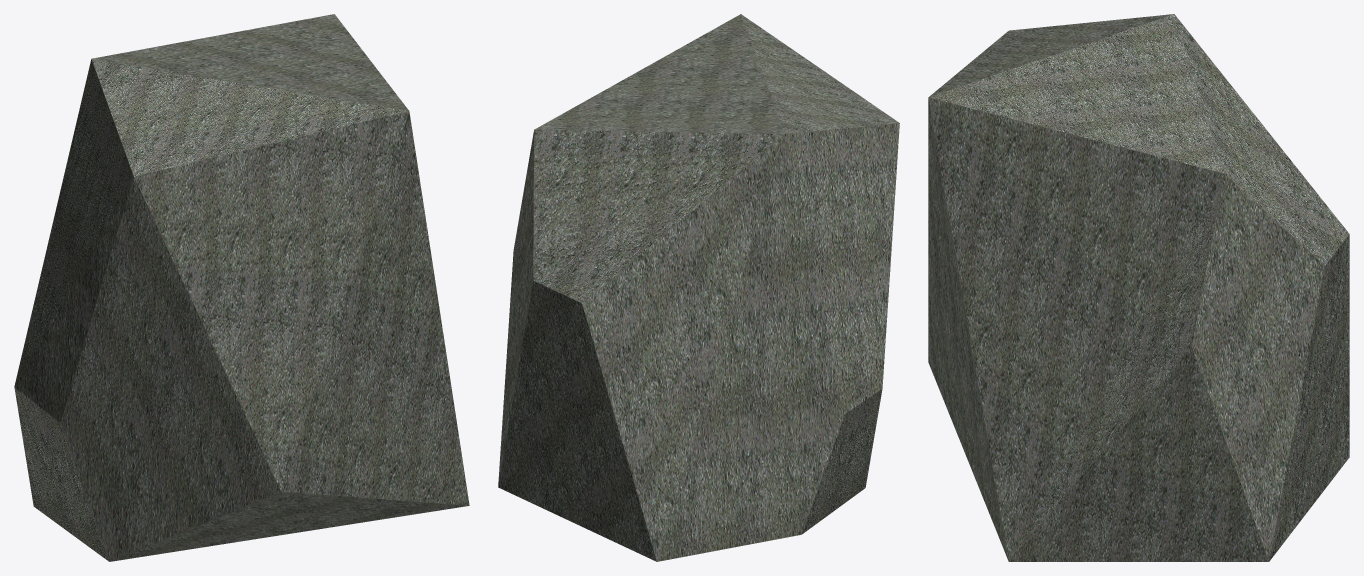
File: Rock.glb
The picture shows the model from 3 angles, left to right: view 1: azimuth 30°, elevation 25°; view 2: azimuth 150°, elevation 25°; view 3: azimuth 270°, elevation 25°; orthographic projection. The views are drawn at different scales.
Parts seen in each view (by area): view 1: Rock; view 2: Rock; view 3: Rock.
Part boxes in pixels (x1,y1,x2,y2): Rock: [14, 14, 469, 561]; Rock: [498, 14, 899, 561]; Rock: [928, 14, 1349, 561].
Bounding box in the file's own units: 1.67 × 1.86 × 1.7.
Materials: 1 (1 with a texture image).
